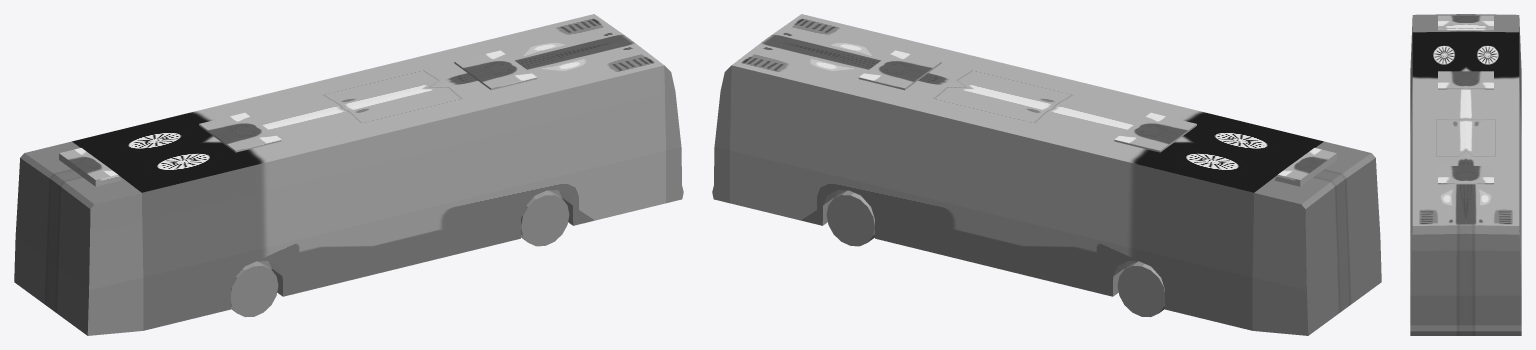
The model's file is bus.fbx.
The picture shows the model from 3 angles, left to right: view 1: azimuth 30°, elevation 25°; view 2: azimuth 150°, elevation 25°; view 3: azimuth 270°, elevation 25°; orthographic projection. The views are drawn at different scales.
Parts seen in each view (by area): view 1: Car_Bus #lod0; view 2: Car_Bus #lod0; view 3: Car_Bus #lod0.
Part boxes in pixels (<box>): Car_Bus #lod0: <box>14,14,683,335</box>; Car_Bus #lod0: <box>712,14,1381,335</box>; Car_Bus #lod0: <box>1410,14,1521,335</box>.
Size of the model in its own units: 1197 by 256 by 307.
